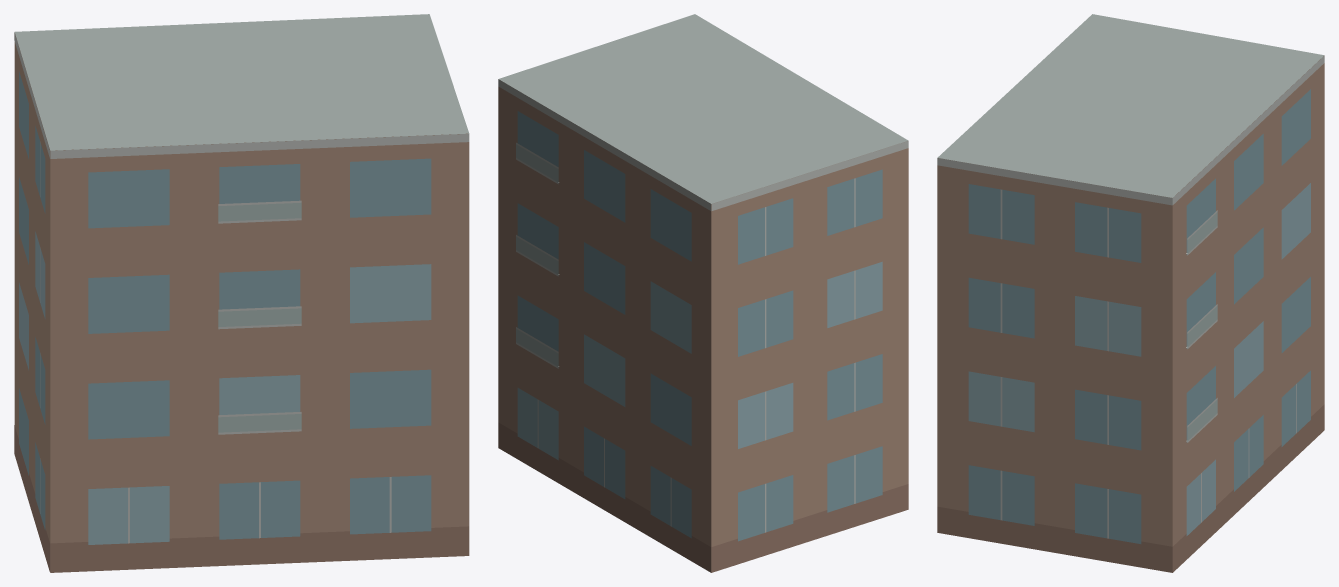
File: survey-upis-32923767.glb
3 renders of one model, left to right at view 1: azimuth 30°, elevation 25°; view 2: azimuth 150°, elevation 25°; view 3: azimuth 270°, elevation 25°, orthographic. The views are drawn at different scales.
Parts seen in each view (by area): view 1: survey-upis-32923767.tmp; view 2: survey-upis-32923767.tmp; view 3: survey-upis-32923767.tmp.
Boxes of the visible parts, x1,y1,x2,y2 form: survey-upis-32923767.tmp: [14, 14, 469, 572]; survey-upis-32923767.tmp: [498, 14, 908, 572]; survey-upis-32923767.tmp: [937, 14, 1324, 572].
Bounding box in the file's own units: 12.85 × 12.2 × 11.43.
